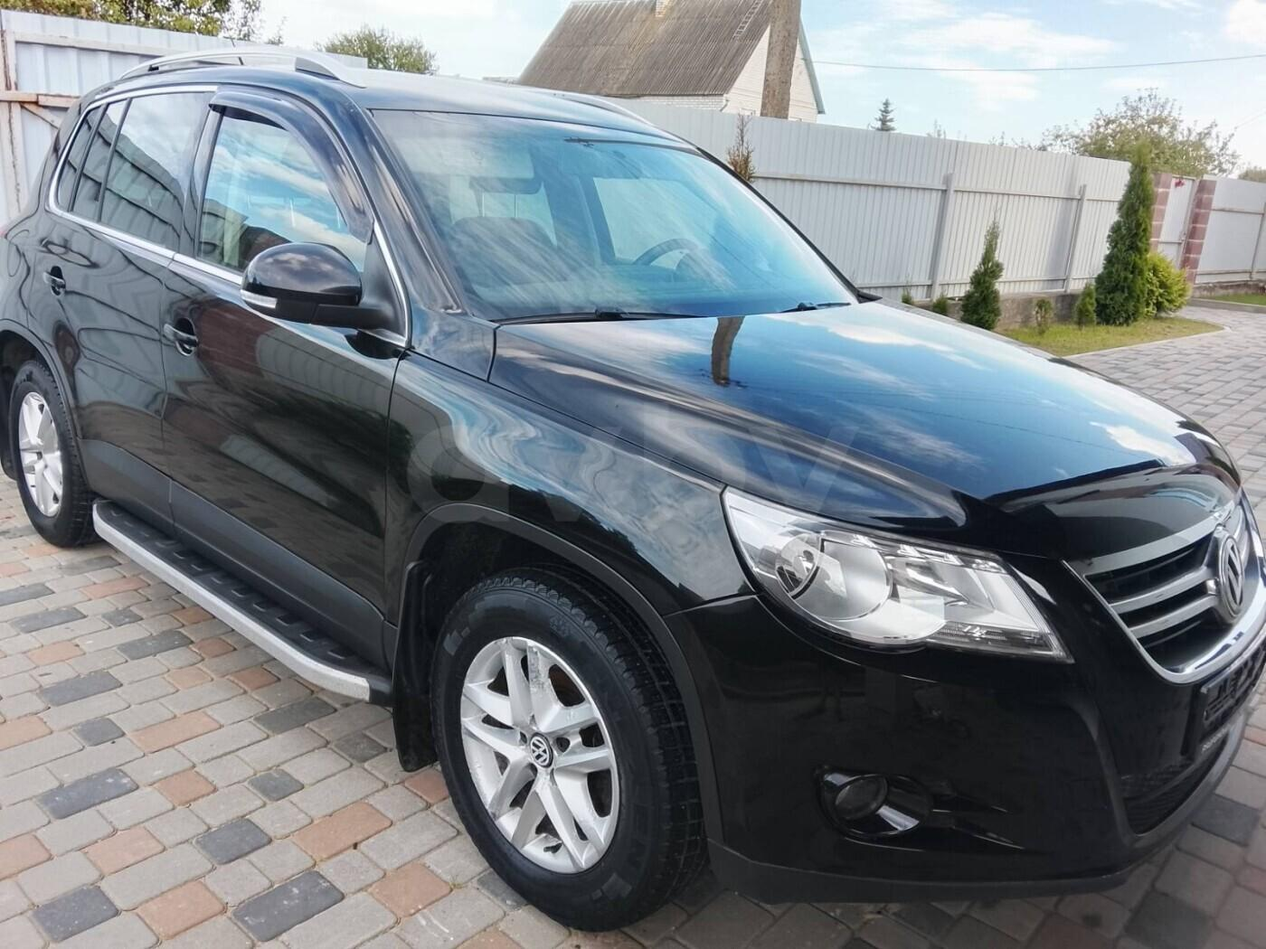Tiguan_2007-2011: (0, 57, 1266, 931)
